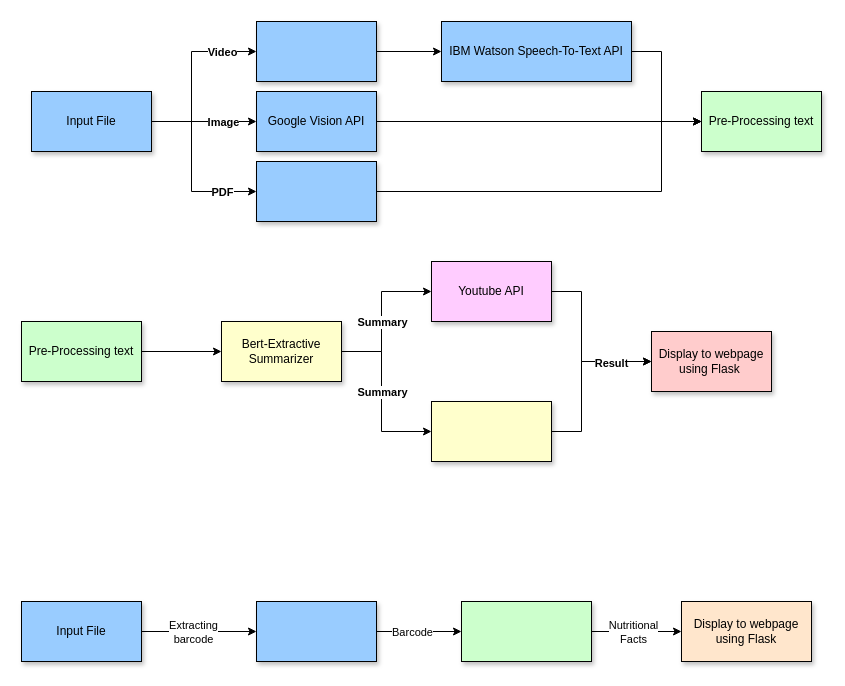
This 845x686 diagram has some shape labels left out. The centre of each missing label's shape, as x and y in pixels:
"Convert to MP3" belongs at pixel 317 52.
"Fine-Tuned Bert model for semantic similarity" belongs at pixel 492 432.
"Open CV" belongs at pixel 317 632.
"Open Food Facts API" belongs at pixel 527 632.
"PyPDF2" belongs at pixel 317 192.
